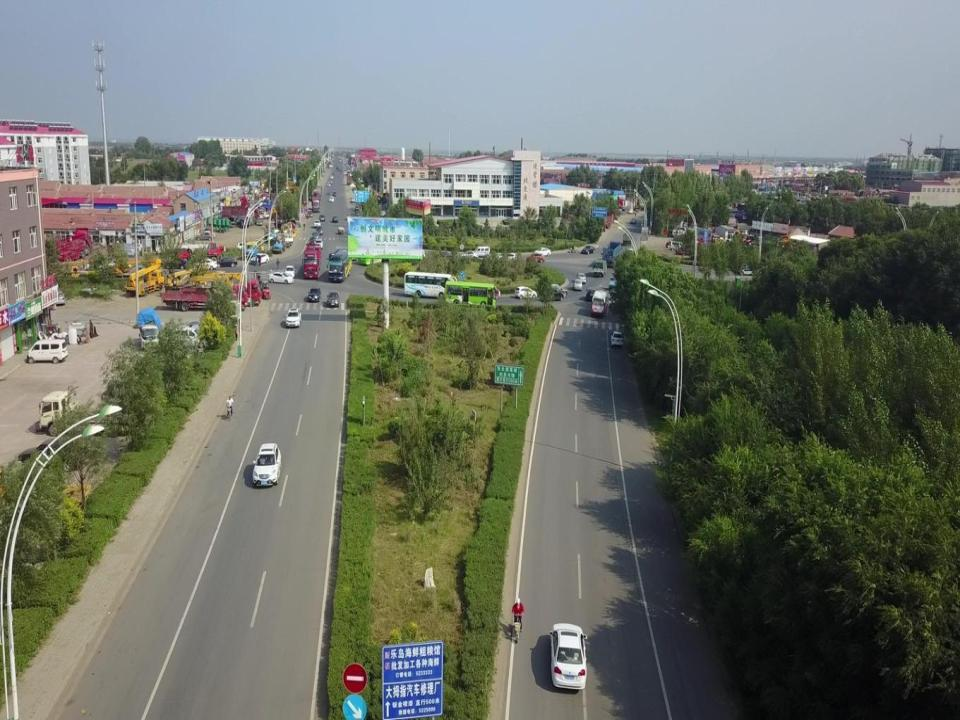bus: (404, 268, 457, 300), (444, 280, 496, 308), (357, 238, 393, 266), (327, 248, 351, 284), (590, 289, 608, 319)
car: (548, 622, 590, 692), (250, 442, 282, 488), (26, 338, 69, 363), (170, 328, 208, 350), (268, 270, 294, 284), (544, 284, 567, 298), (286, 308, 302, 328), (514, 286, 538, 299), (192, 258, 218, 270), (166, 257, 188, 270), (735, 262, 755, 276), (326, 289, 340, 309), (214, 256, 238, 267), (307, 287, 322, 303), (610, 330, 623, 348), (526, 252, 545, 264), (250, 253, 269, 265), (497, 252, 516, 263), (195, 231, 214, 242), (54, 290, 66, 306), (533, 247, 551, 257), (585, 287, 596, 303), (580, 244, 596, 255), (460, 250, 479, 259), (236, 241, 252, 251), (196, 231, 215, 239), (284, 266, 295, 278), (573, 278, 583, 290), (575, 272, 586, 282), (315, 238, 323, 250), (308, 237, 316, 246), (311, 232, 320, 240), (314, 219, 320, 228), (318, 215, 326, 221), (630, 217, 636, 224), (328, 196, 334, 202), (333, 216, 338, 223), (345, 214, 352, 219), (629, 208, 633, 214), (351, 197, 355, 202), (332, 192, 336, 196), (330, 175, 334, 179), (327, 181, 330, 186), (330, 179, 333, 184), (332, 173, 335, 176)
truck: (40, 390, 132, 437), (17, 438, 93, 472), (162, 282, 232, 312), (181, 282, 249, 312), (197, 279, 262, 305), (54, 227, 93, 266), (136, 308, 161, 353), (302, 243, 322, 280), (602, 241, 622, 268), (591, 210, 615, 232), (591, 258, 607, 278), (622, 230, 632, 246), (313, 184, 322, 200), (312, 195, 320, 212)
van: (540, 286, 564, 301), (479, 284, 501, 300), (472, 246, 491, 258), (669, 241, 684, 250), (316, 225, 324, 236), (667, 230, 676, 237)
